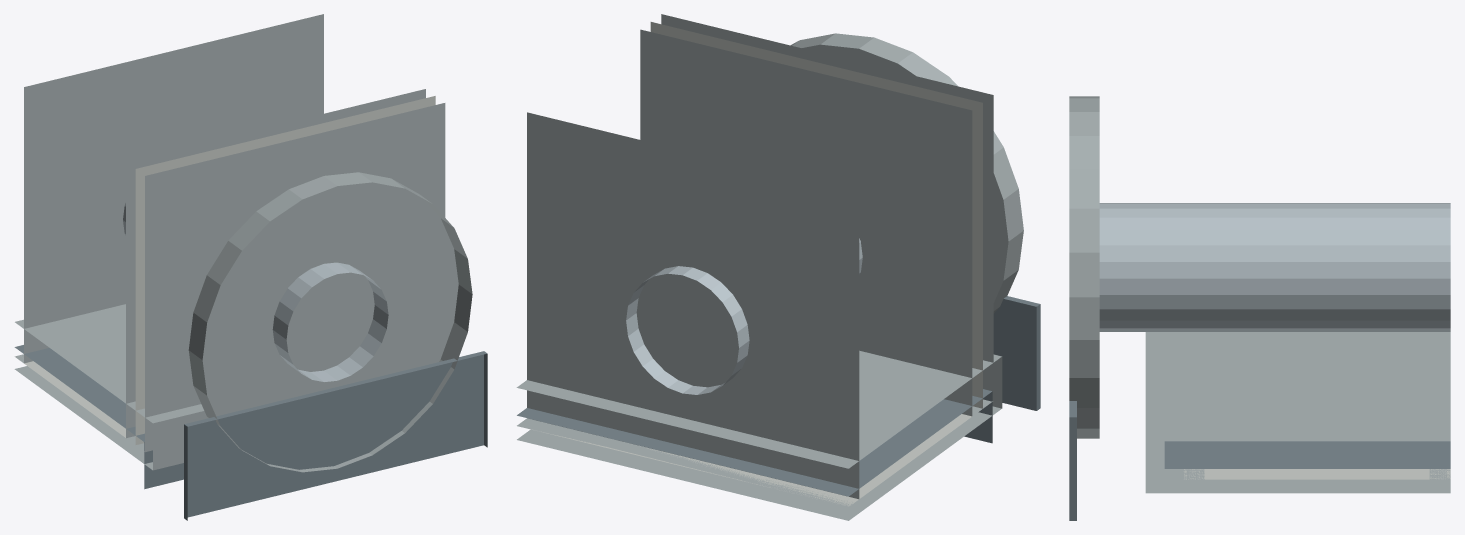
File: cell_136.obj
3 renders of one model, left to right at view 1: azimuth 30°, elevation 25°; view 2: azimuth 150°, elevation 25°; view 3: azimuth 270°, elevation 25°, orthographic. The views are drawn at different scales.
Bounding box in the file's own units: 1 × 1 × 1.
